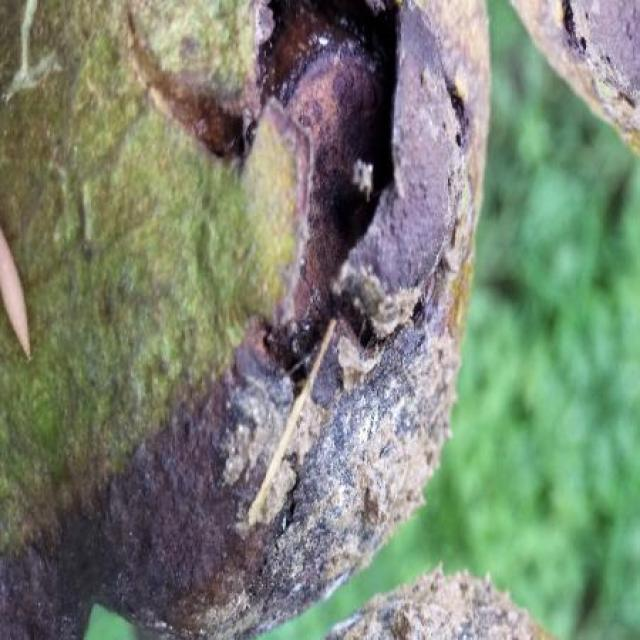Phytopthora: (0, 0, 489, 640), (329, 571, 550, 639)
